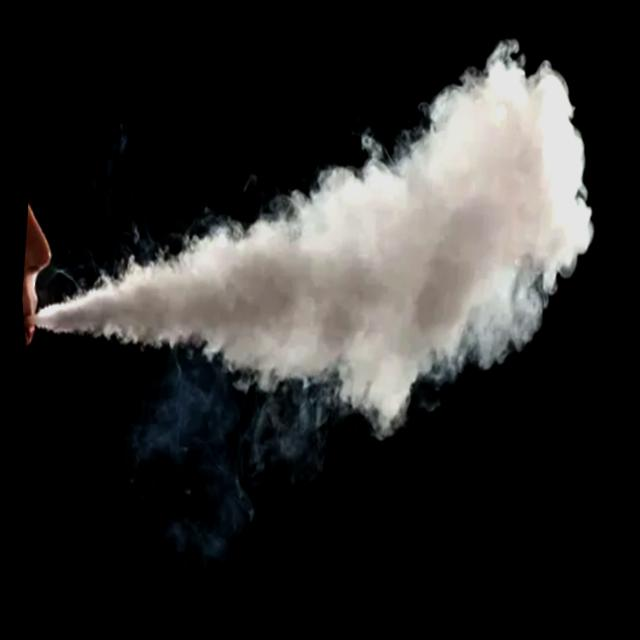Smoke: (4, 0, 625, 456)
